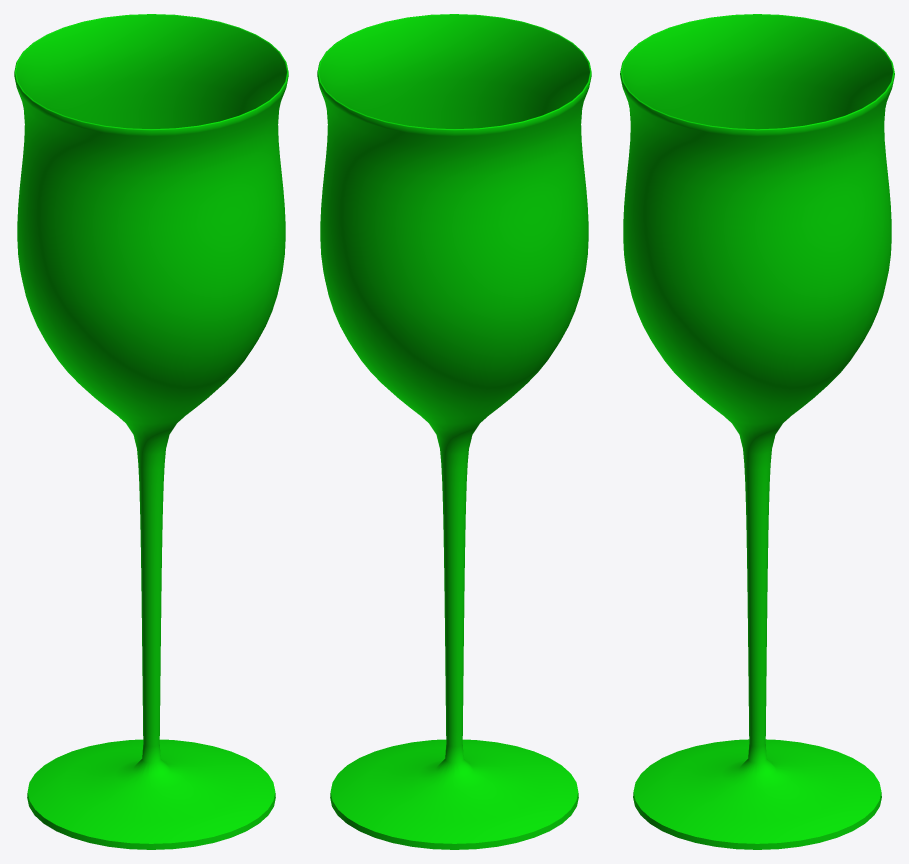
The model's file is Glass5_LOD_0.fbx.
The picture shows the model from 3 angles, left to right: view 1: azimuth 30°, elevation 25°; view 2: azimuth 150°, elevation 25°; view 3: azimuth 270°, elevation 25°; orthographic projection.
Visible parts, largest first — view 1: Glass5_LOD_0; view 2: Glass5_LOD_0; view 3: Glass5_LOD_0.
Part boxes in pixels (bbox=[...]): Glass5_LOD_0: bbox=[14, 14, 288, 849]; Glass5_LOD_0: bbox=[317, 14, 591, 849]; Glass5_LOD_0: bbox=[620, 14, 894, 849].
Bounding box in the file's own units: 1.55 × 4.56 × 1.55.
